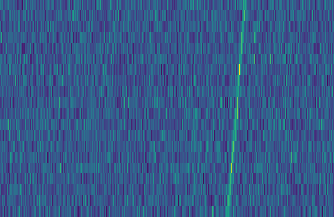signal: (224, 0, 251, 217)
